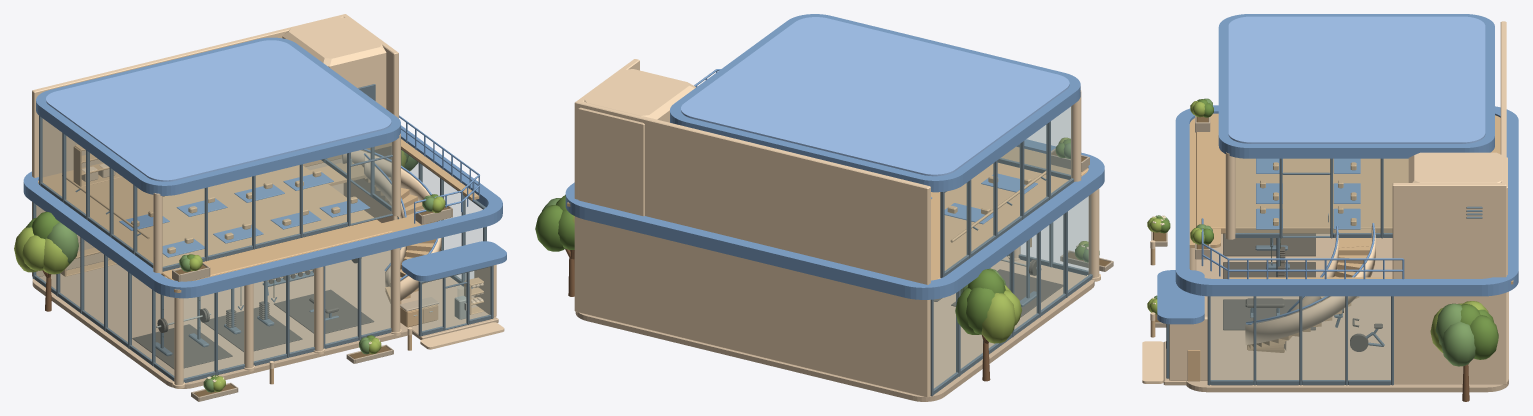
3 renders of one model, left to right at view 1: azimuth 30°, elevation 25°; view 2: azimuth 150°, elevation 25°; view 3: azimuth 270°, elevation 25°, orthographic. The views are drawn at different scales.
Parts seen in each view (by area): view 1: R 内凹浅蓝屋面, S 一层室内楼面, A 二层瑜伽室前窗, A 一层前大玻璃, S 二层训练室楼板, R 二层蓝色圆角檐带, A 一层左大玻璃, A 二层瑜伽室左窗, R 瑜伽厅蓝色圆角顶板, I 分区橡胶垫, A 后勤立方塔, A 后部奶油墙 (+25 smaller); view 2: A 后部奶油墙, R 内凹浅蓝屋面, R 二层蓝色圆角檐带, A 二层瑜伽室左窗, A 一层左大玻璃, A 后勤立方塔, S 一层室内楼面, R 瑜伽厅蓝色圆角顶板, S 二层训练室楼板, L 乔木 · 枝干与树冠, A 一层前大玻璃, A 二层瑜伽室前窗 (+6 smaller); view 3: R 内凹浅蓝屋面, A 楼梯右弧窗, S 一层室内楼面, A 二层瑜伽室右窗, A 楼梯后勤塔, S 二层训练室楼板, A 后勤立方塔, R 二层蓝色圆角檐带, R 瑜伽厅蓝色圆角顶板, I 分区橡胶垫, L 乔木 · 枝干与树冠, S 弧梯实心扶墙 (+16 smaller).
Boxes of the visible parts, left/top/right/bottom form: R 内凹浅蓝屋面: left=46, top=40, right=391, bottom=181; S 一层室内楼面: left=32, top=250, right=479, bottom=388; A 二层瑜伽室前窗: left=162, top=142, right=392, bottom=271; A 一层前大玻璃: left=183, top=250, right=391, bottom=382; S 二层训练室楼板: left=38, top=164, right=392, bottom=280; R 二层蓝色圆角檐带: left=23, top=125, right=502, bottom=298; A 一层左大玻璃: left=32, top=202, right=174, bottom=381; A 二层瑜伽室左窗: left=39, top=116, right=153, bottom=267; R 瑜伽厅蓝色圆角顶板: left=36, top=37, right=400, bottom=195; I 分区橡胶垫: left=132, top=289, right=374, bottom=369; A 后勤立方塔: left=282, top=17, right=386, bottom=108; A 后部奶油墙: left=32, top=14, right=346, bottom=276; A 后部奶油墙: left=574, top=100, right=930, bottom=397; R 内凹浅蓝屋面: left=681, top=17, right=1069, bottom=176; R 二层蓝色圆角檐带: left=565, top=139, right=1104, bottom=299; A 二层瑜伽室左窗: left=940, top=106, right=1073, bottom=277; A 一层左大玻璃: left=930, top=195, right=1092, bottom=396; A 后勤立方塔: left=578, top=69, right=695, bottom=216; S 一层室内楼面: left=575, top=256, right=1094, bottom=401; R 瑜伽厅蓝色圆角顶板: left=670, top=14, right=1080, bottom=192; S 二层训练室楼板: left=931, top=148, right=1088, bottom=280; L 乔木 · 枝干与树冠: left=535, top=194, right=1021, bottom=381; A 一层前大玻璃: left=1007, top=197, right=1088, bottom=275; A 二层瑜伽室前窗: left=997, top=107, right=1070, bottom=179; R 内凹浅蓝屋面: left=1228, top=16, right=1485, bottom=143; A 楼梯右弧窗: left=1207, top=296, right=1393, bottom=385; S 一层室内楼面: left=1186, top=233, right=1508, bottom=392; A 二层瑜伽室右窗: left=1235, top=158, right=1408, bottom=238; A 楼梯后勤塔: left=1392, top=183, right=1502, bottom=384; S 二层训练室楼板: left=1196, top=115, right=1500, bottom=233; A 后勤立方塔: left=1408, top=152, right=1507, bottom=278; R 二层蓝色圆角檐带: left=1175, top=105, right=1518, bottom=296; R 瑜伽厅蓝色圆角顶板: left=1218, top=14, right=1494, bottom=158; I 分区橡胶垫: left=1223, top=233, right=1315, bottom=330; L 乔木 · 枝干与树冠: left=1430, top=301, right=1498, bottom=401; S 弧梯实心扶墙: left=1245, top=226, right=1375, bottom=351.
Size of the model in its own units: 23.53 by 10.58 by 17.45.
